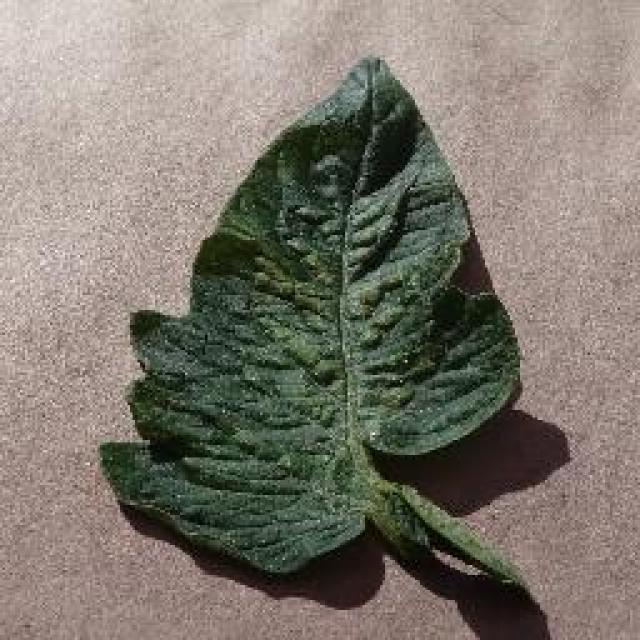Tomato___Spider_mites Two-spotted_spider_mite: (102, 58, 522, 588)
